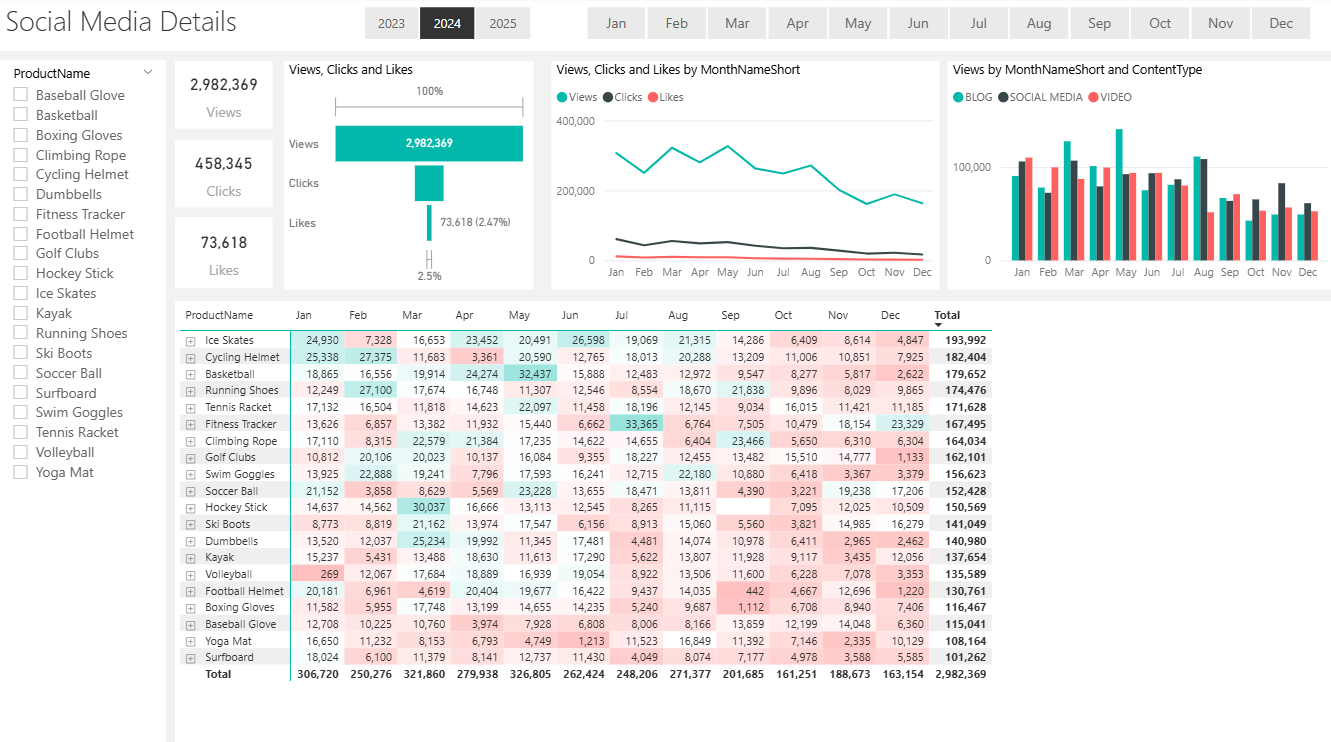

Layout of this report page (visuals, bound fields, positions):
{"tool":"powerbi","page":{"name":"Social Media Details","canvas":[1280,720],"ordinal":2},"visuals":[{"type":"textbox","box":[0,0,1280,52.6],"z":0},{"type":"slicer","fields":{"Values":["dim_products.ProductName"]},"box":[0,61.6,159.5,658.5],"z":1000},{"type":"lineChart","fields":{"Category":["Calendar.MonthNameShort"],"Y":["_Calculations.Views","_Calculations.Clicks","_Calculations.Likes"]},"box":[528.5,61.9,371.6,218.8],"z":2000},{"type":"funnel","fields":{"Y":["_Calculations.Views","_Calculations.Clicks","_Calculations.Likes"]},"box":[272.5,61.9,239.5,218.8],"z":3000},{"type":"card","fields":{"Values":["_Calculations.Views"]},"box":[168.3,61.9,93.9,65],"z":4000},{"type":"card","fields":{"Values":["_Calculations.Clicks"]},"box":[168.3,137.3,93.9,65],"z":5000},{"type":"card","fields":{"Values":["_Calculations.Likes"]},"box":[168.3,212.6,93.9,68.1],"z":6000},{"type":"slicer","fields":{"Values":["Calendar.MonthNameShort"]},"box":[536.8,4.1,743.2,44.4],"z":7000},{"type":"slicer","fields":{"Values":["Calendar.Year"]},"box":[324.1,4.1,208.5,44.4],"z":8000},{"type":"pivotTable","fields":{"Columns":["Calendar.MonthNameShort"],"Rows":["dim_products.ProductName","fact_engagement.ContentType"],"Values":["_Calculations.Views"]},"box":[168.3,292.1,1110.7,428.4],"z":9000},{"type":"clusteredColumnChart","fields":{"Category":["Calendar.MonthNameShort"],"Series":["fact_engagement.ContentType"],"Y":["_Calculations.Views"]},"box":[908.4,61.9,370.6,218.8],"z":10000}]}

Visuals, with their boxes in screenshot pixels (x1, y1, x2, y2), scaled from the page's 1280x720 canvas onto the 1331x742 screenshot:
textbox: [0,0,1330,54]
slicer - dim_products.ProductName: [0,63,166,741]
lineChart - Calendar.MonthNameShort x _Calculations.Views: [550,64,936,289]
funnel - _Calculations.Views x _Calculations.Clicks: [283,64,532,289]
card - _Calculations.Views: [175,64,273,131]
card - _Calculations.Clicks: [175,141,273,208]
card - _Calculations.Likes: [175,219,273,289]
slicer - Calendar.MonthNameShort: [558,4,1330,50]
slicer - Calendar.Year: [337,4,554,50]
pivotTable - Calendar.MonthNameShort x dim_products.ProductName: [175,301,1330,741]
clusteredColumnChart - Calendar.MonthNameShort x fact_engagement.ContentType: [945,64,1330,289]
